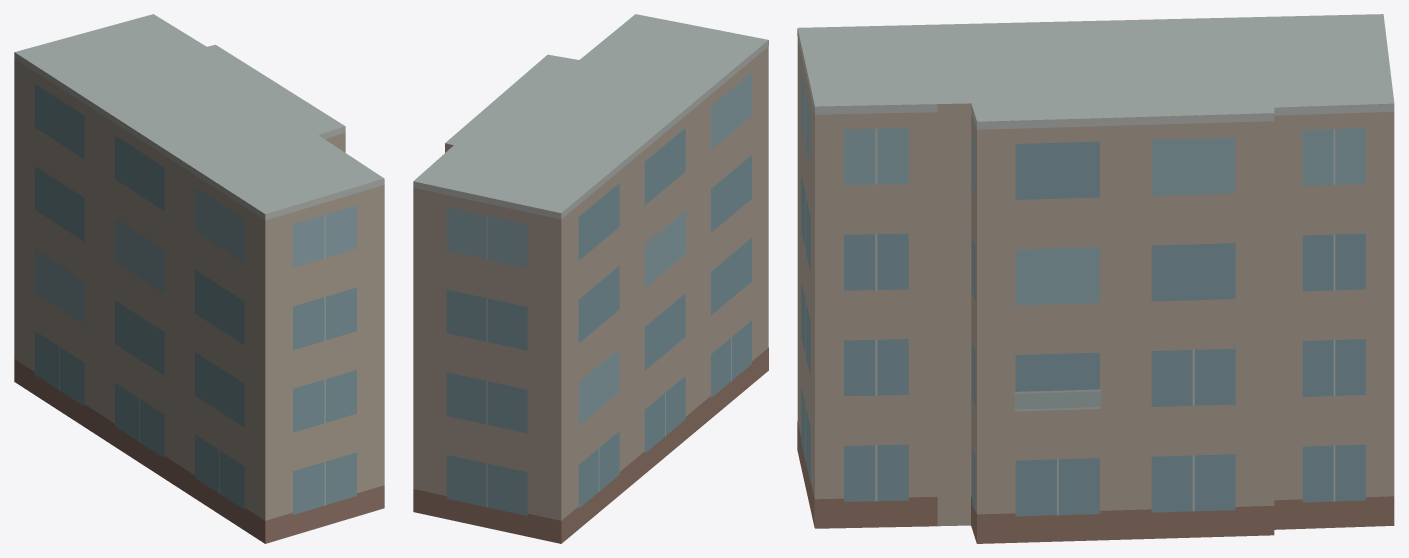
Rendered from survey-upis-32516501.glb.
3 renders of one model, left to right at view 1: azimuth 30°, elevation 25°; view 2: azimuth 150°, elevation 25°; view 3: azimuth 270°, elevation 25°, orthographic. The views are drawn at different scales.
Parts seen in each view (by area): view 1: survey-upis-32516501.tmp; view 2: survey-upis-32516501.tmp; view 3: survey-upis-32516501.tmp.
Boxes of the visible parts, box(x1,y1,x2,y2) form: survey-upis-32516501.tmp: box(14, 14, 384, 543); survey-upis-32516501.tmp: box(413, 14, 768, 543); survey-upis-32516501.tmp: box(797, 14, 1394, 543).
Bounding box in the file's own units: 7.02 × 12.8 × 16.42.
